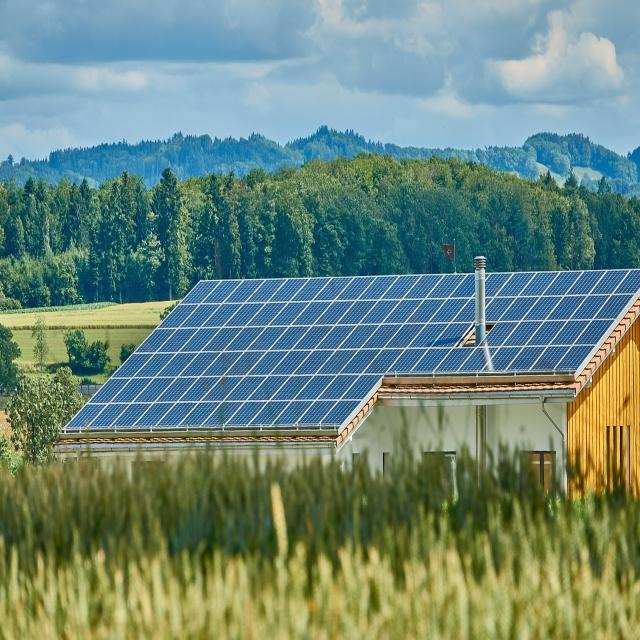clean-solar-panel: (65, 269, 640, 433)
